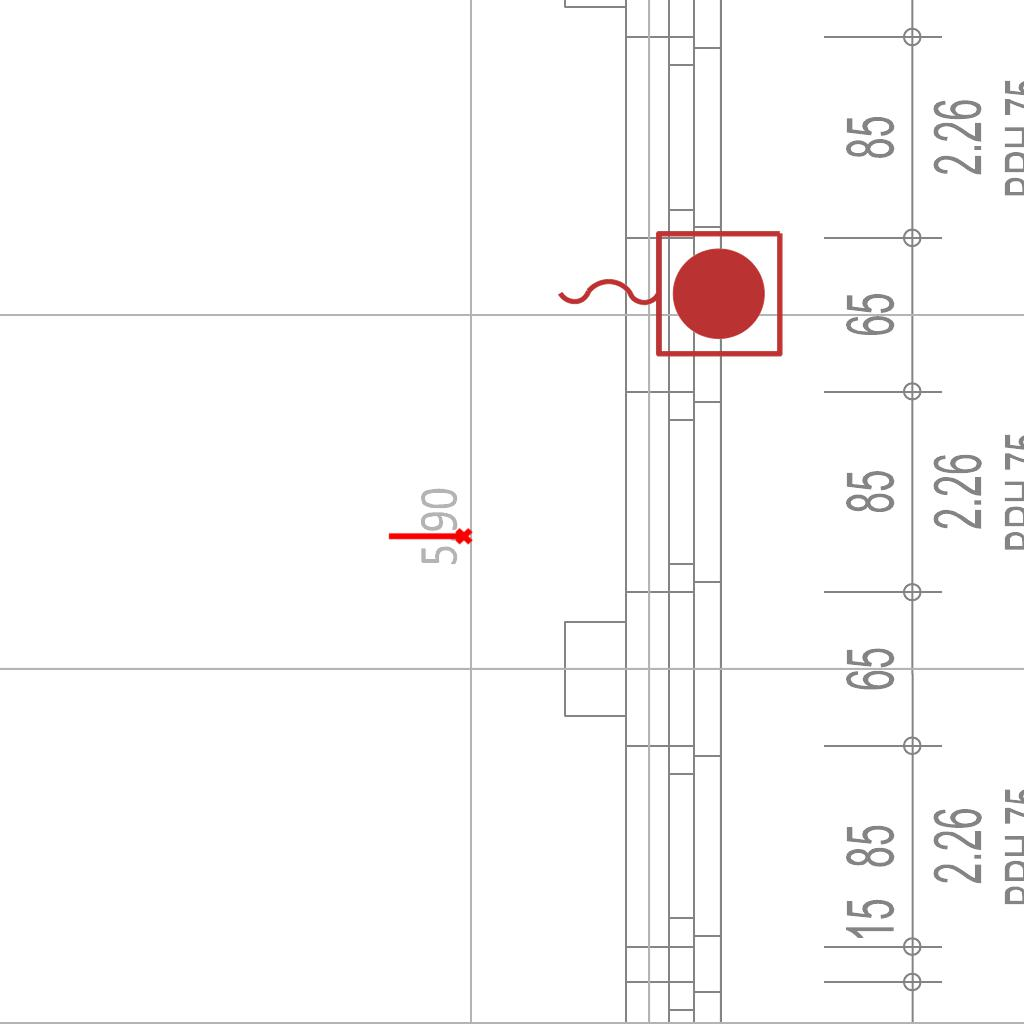ASR_Ansaugoeffnung: (386, 526, 474, 549)
Zugtaster: (547, 220, 791, 364)
